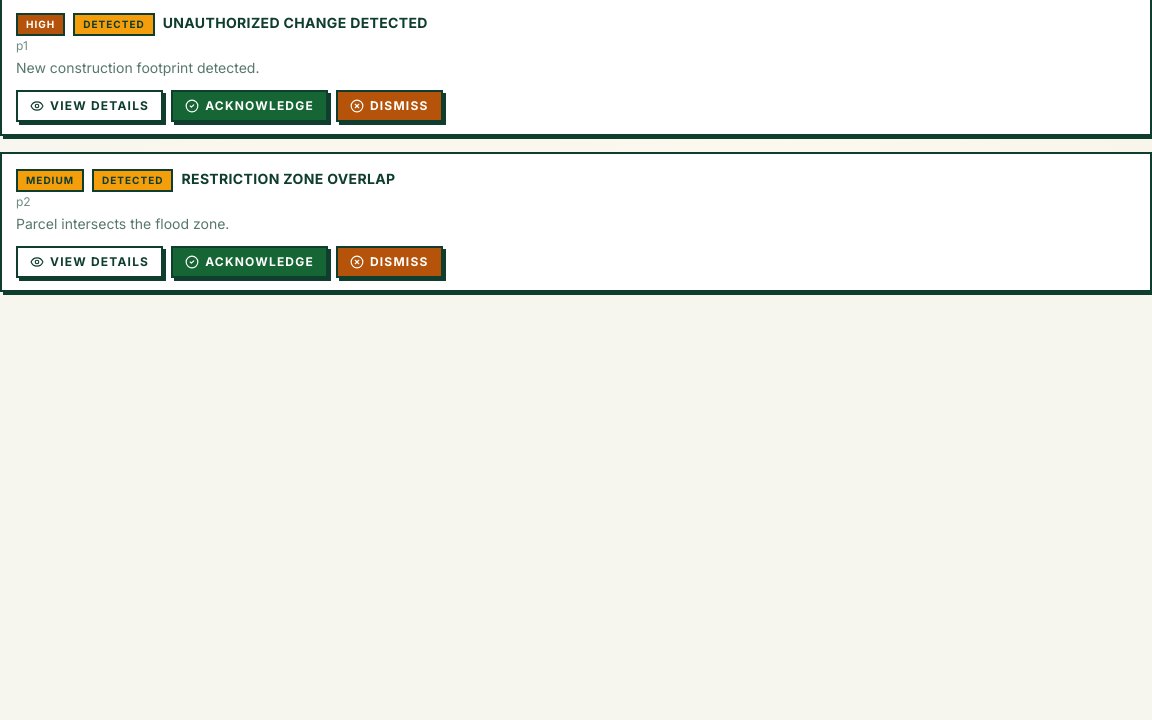
Test: GovernanceAlertsPanel › confirming without typing a reason shows an error and does not submit
The width and height of the screenshot is (1152, 720).
Expected: the text "UNAUTHORIZED CHANGE DETECTED" is shown, [163,14,428,31]
Click the button "Acknowledge" below "New construction footprint detected." at (250, 106), box [171,90,328,122]
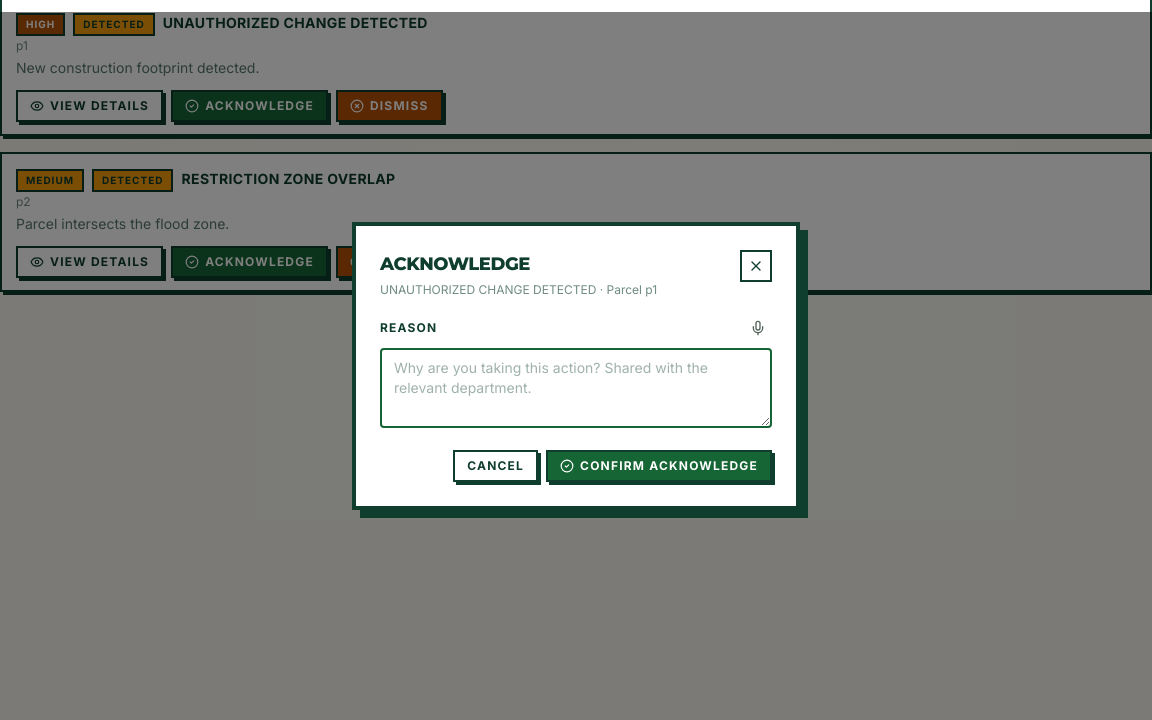
Click the button "Confirm Acknowledge" at (659, 466), box [546,450,772,482]
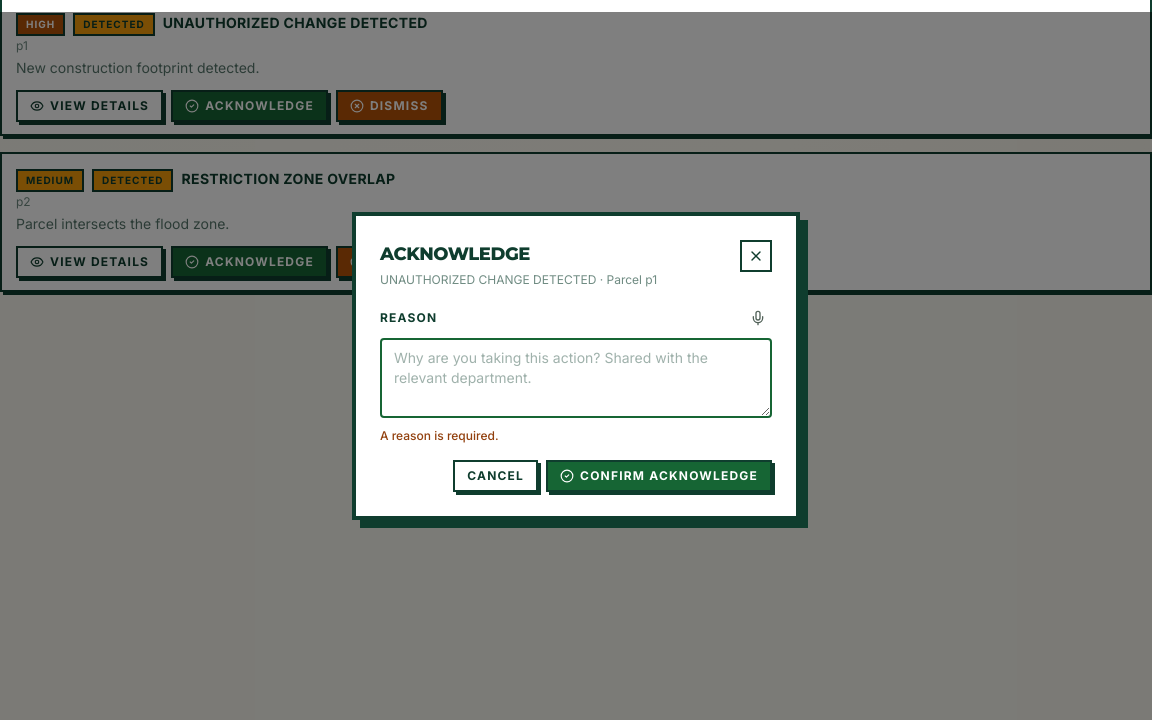
Expected: the text "A reason is required." is shown, [380,428,498,443]
